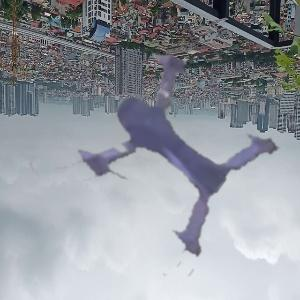drone: (40, 18, 278, 256)
